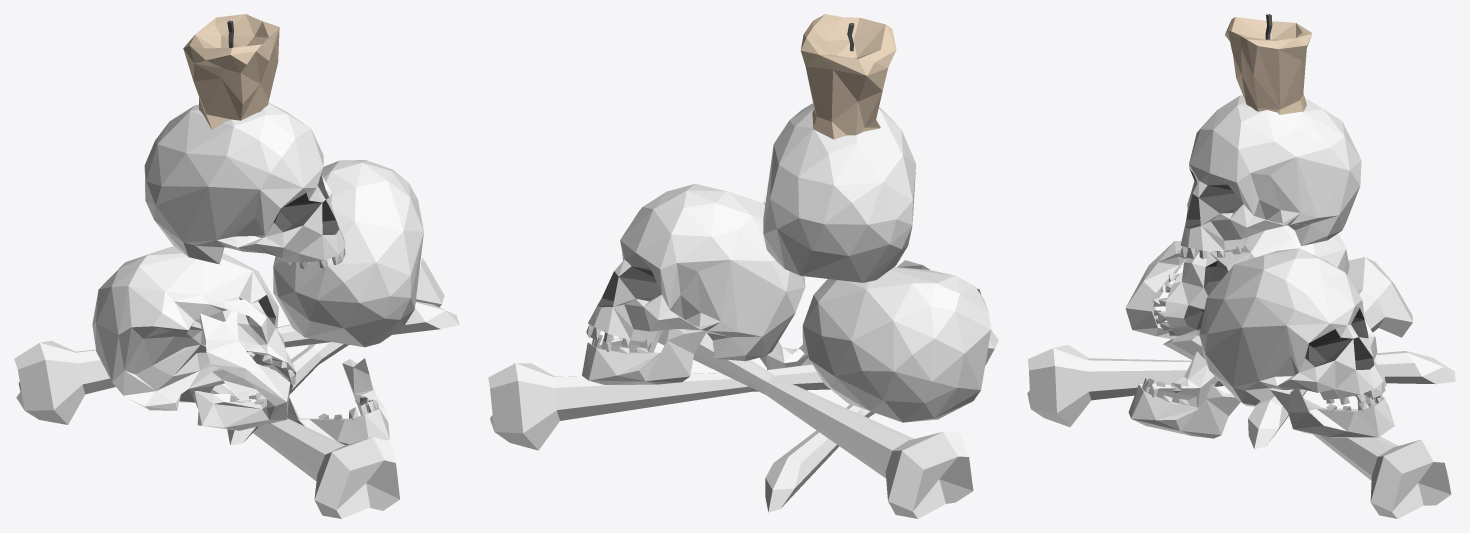
File: HWN20_Skull&Candles_02.glb
3 renders of one model, left to right at view 1: azimuth 30°, elevation 25°; view 2: azimuth 150°, elevation 25°; view 3: azimuth 270°, elevation 25°, orthographic. The views are drawn at different scales.
Visible parts, largest first — view 1: HWN20_Skull&Candles_02; view 2: HWN20_Skull&Candles_02; view 3: HWN20_Skull&Candles_02.
Part boxes in pixels (x1,y1,x2,y2): HWN20_Skull&Candles_02: [14, 14, 459, 518]; HWN20_Skull&Candles_02: [488, 14, 998, 518]; HWN20_Skull&Candles_02: [1027, 14, 1455, 518].
Size of what is drawn, in the model's own units: 0.915 by 0.8224 by 0.8124.
Materials: 1 (1 with a texture image).
